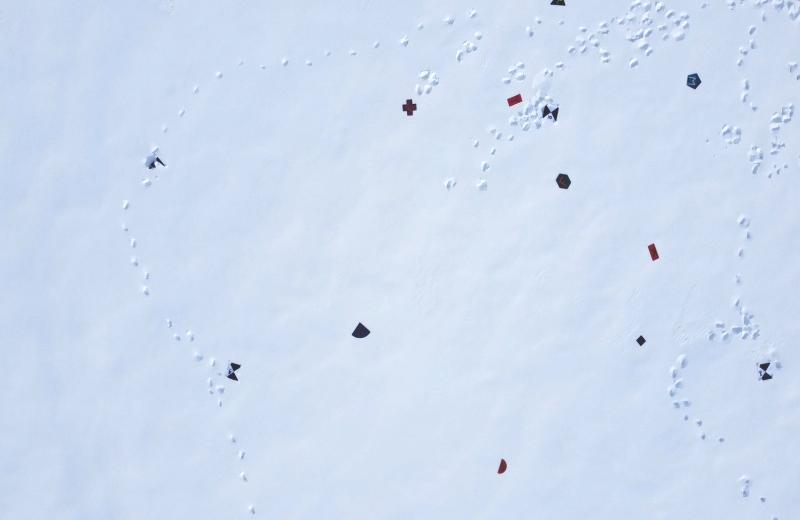Cross: (401, 97, 417, 117)
Hexagon: (555, 173, 572, 191)
Pentagon: (684, 72, 702, 90)
Quarter Circle: (352, 321, 372, 341)
Rectangle: (648, 241, 660, 263), (506, 94, 522, 107)
Semi Circle: (495, 458, 509, 475)
Square: (636, 334, 646, 348)
Triangle: (549, 0, 566, 7)
